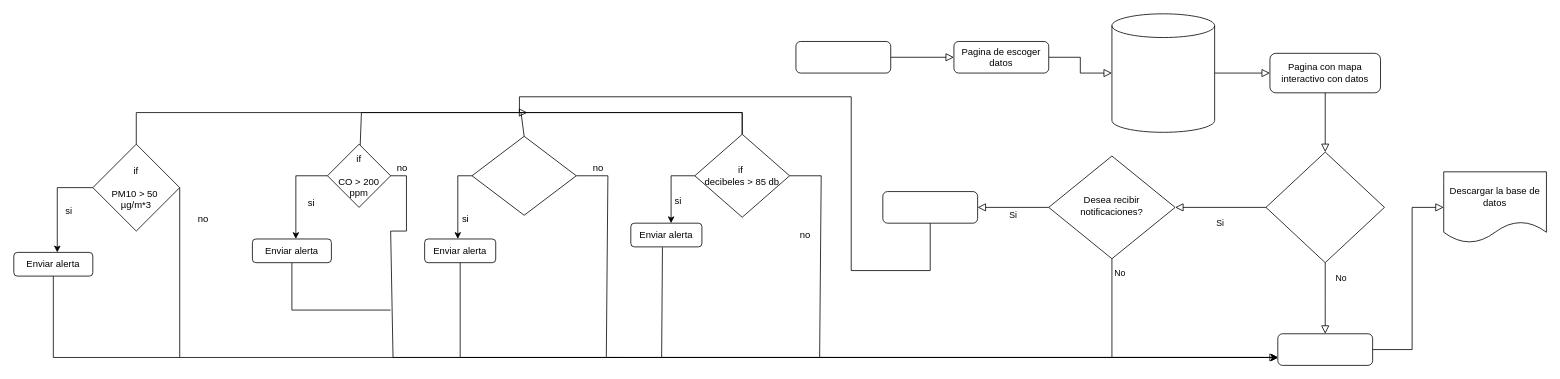
Image size: 1560x379. Some labels were removed from this diagram. The centre of each missing label's shape, as x and y in pixels:
"if pm2.5 > 30 µg/m*3" goes at (x=523, y=175).
"MONOXIDO DE CARBONO PM2.5 PM10 DECIBELES" goes at (x=1163, y=72).
"Pagina principal" goes at (x=843, y=57).
"Primera ves que ha ingresado?" goes at (x=1324, y=207).
"Recibirá notificaciones" goes at (x=930, y=207).
"Visualizar los datos en el mapa" goes at (x=1325, y=349).
